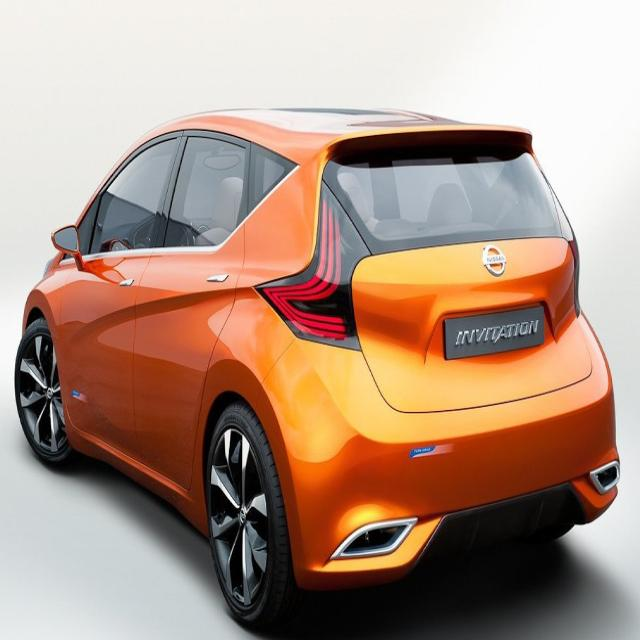back_glass: (320, 133, 562, 255)
back_left_side_light: (253, 176, 372, 354)
back_right_side_light: (548, 171, 583, 317)
door: (139, 143, 256, 475)
front_left_side_door: (57, 128, 185, 470)
front_left_side_mirror: (51, 223, 83, 268)
rear_bumper: (245, 310, 622, 591)
wheel: (204, 400, 294, 626), (14, 317, 81, 467)
